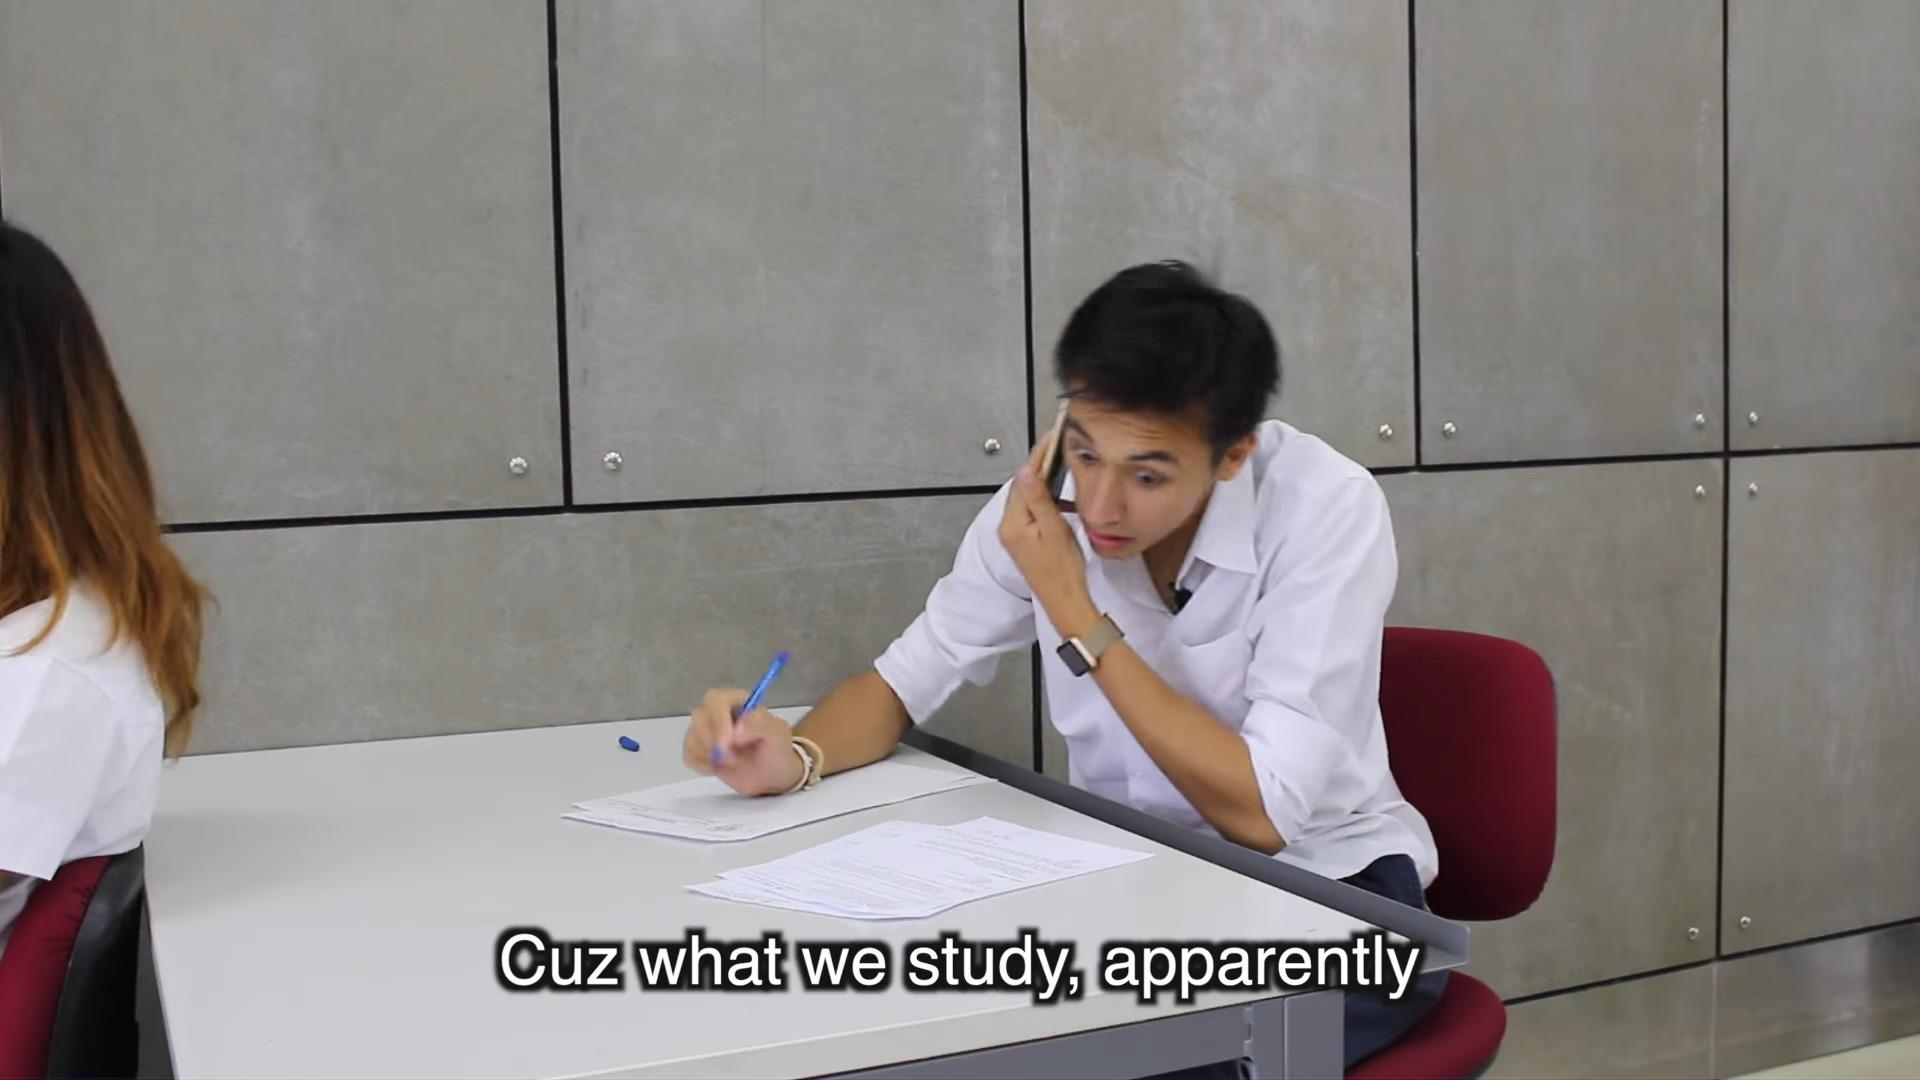cheating: (553, 223, 1448, 918)
